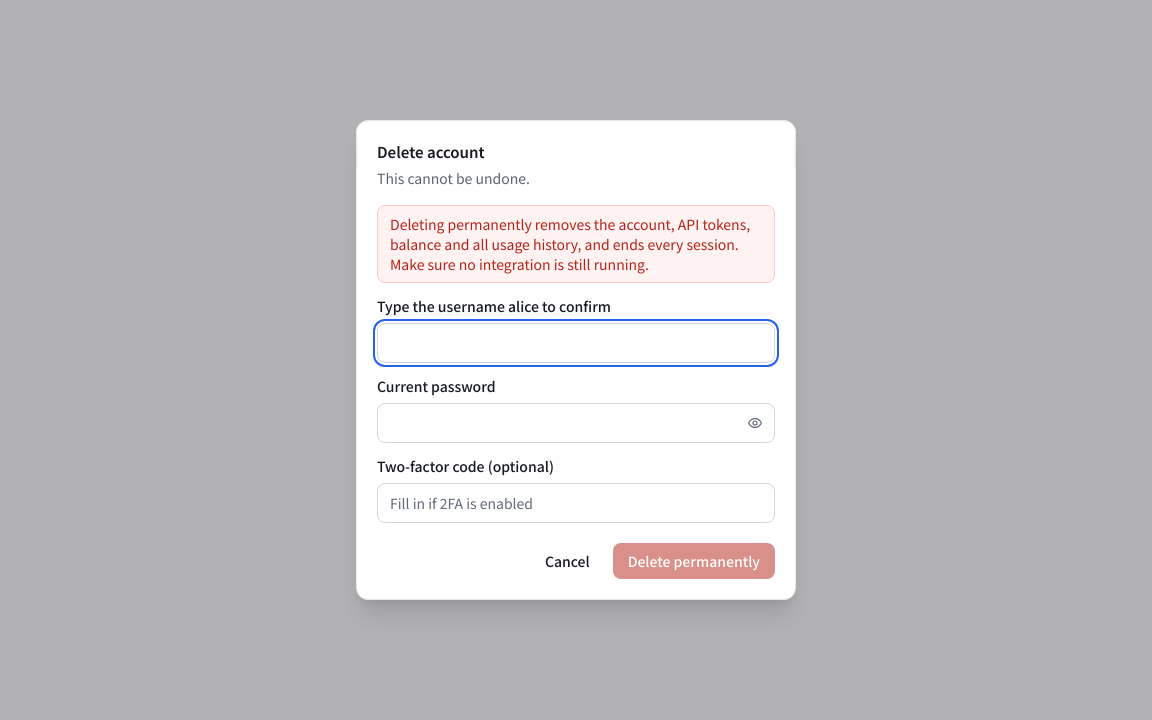
Test case: AccountDeleteDialog › keeps the dialog open and shows an inline error when deletion fails
Type "alice" into the field labelled "Type the username alice to confirm" at (576,343), box [377, 323, 775, 363]
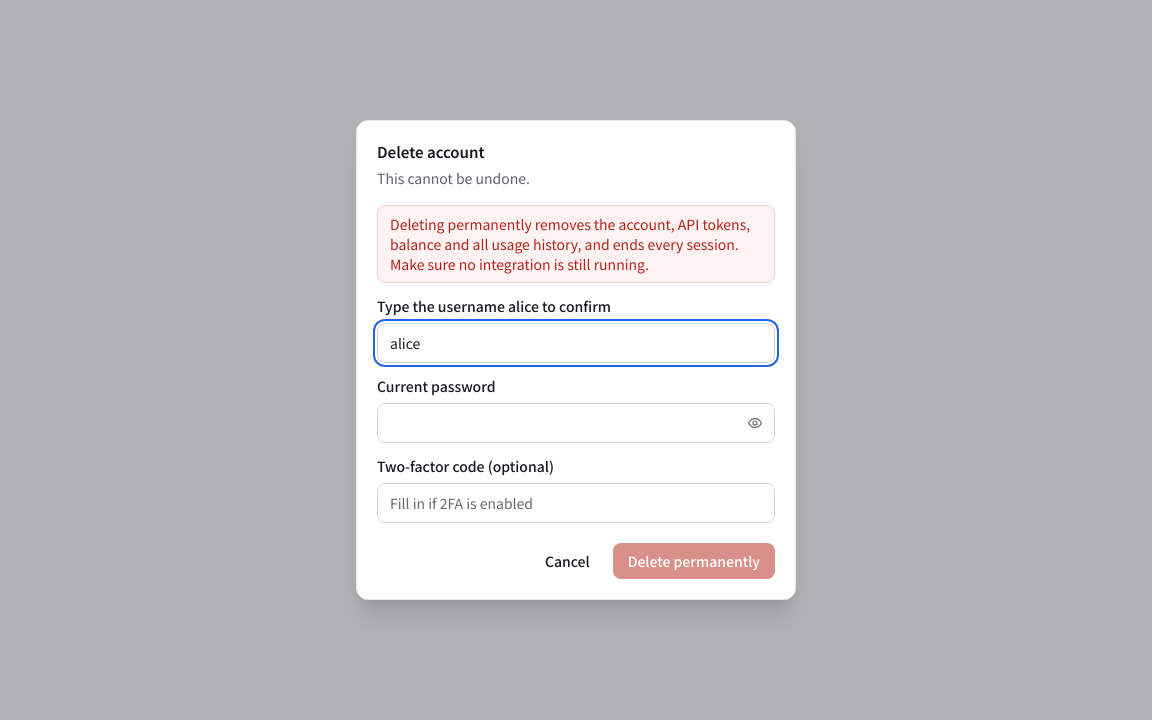
Type "wrong-pass" into the password field labelled "Current password" at (576,423), box [377, 403, 775, 443]
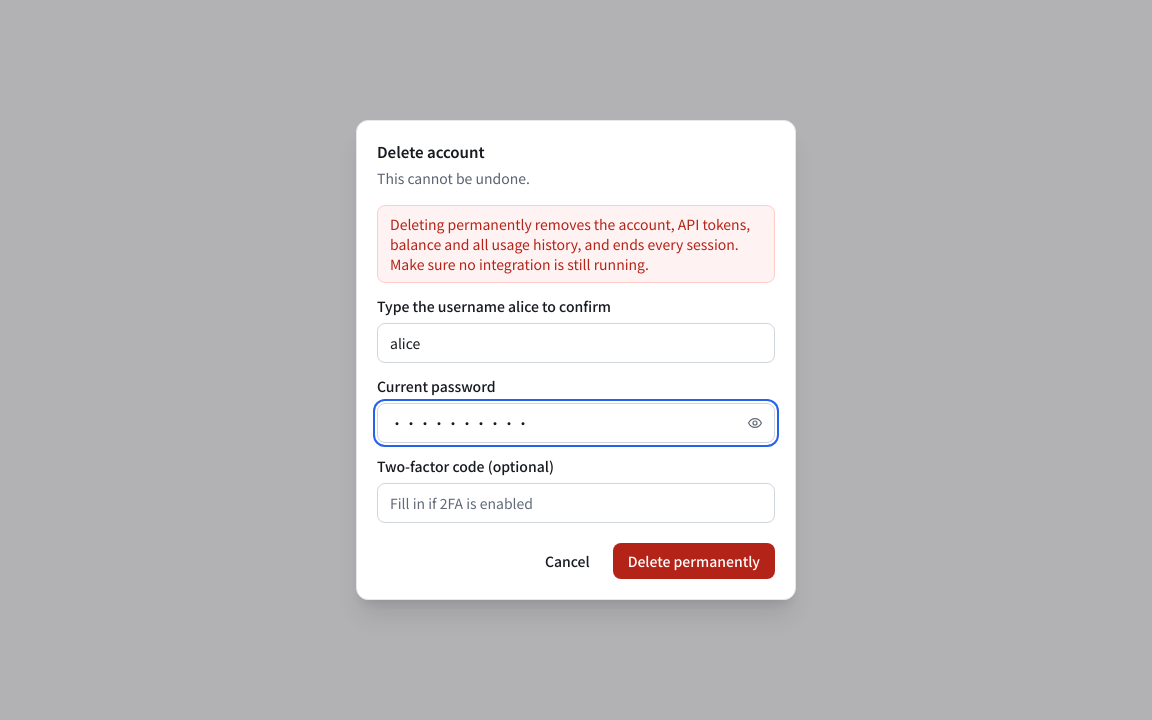
Click the button "Delete permanently" at (694,561), box [613, 543, 775, 579]
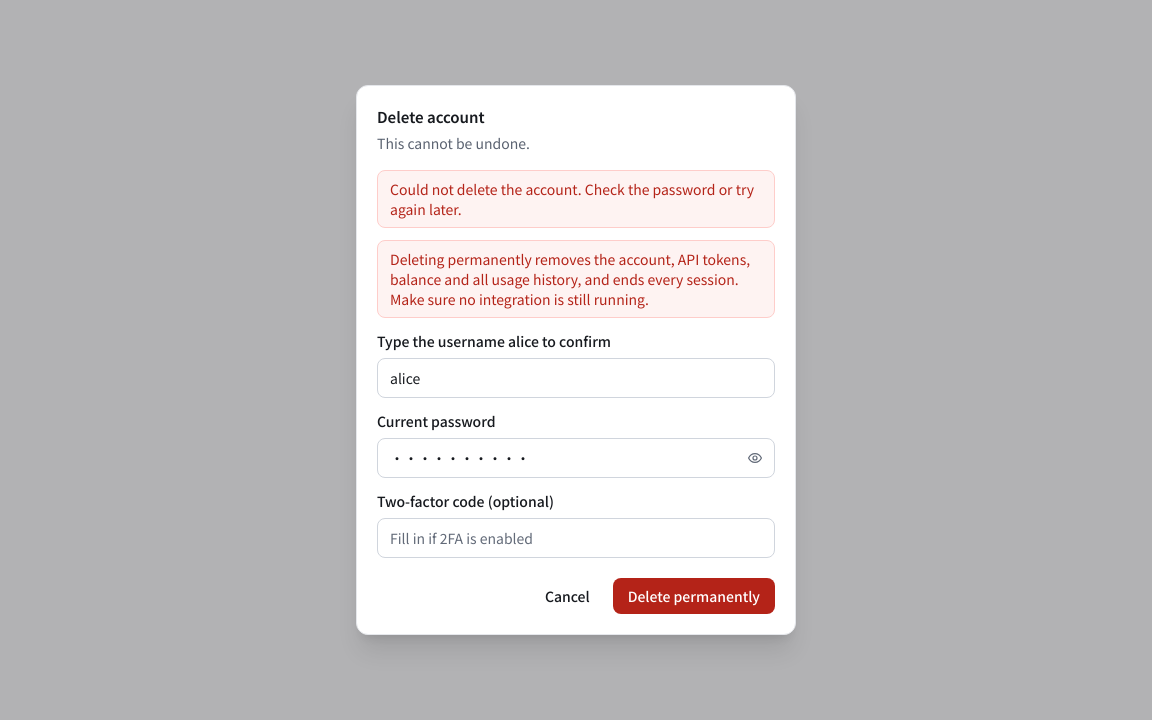
Expected: the dialog is shown, [356, 85, 796, 635]
Expected: the text "Could not delete the account. Check the password or try again later." is shown, [377, 170, 775, 228]
